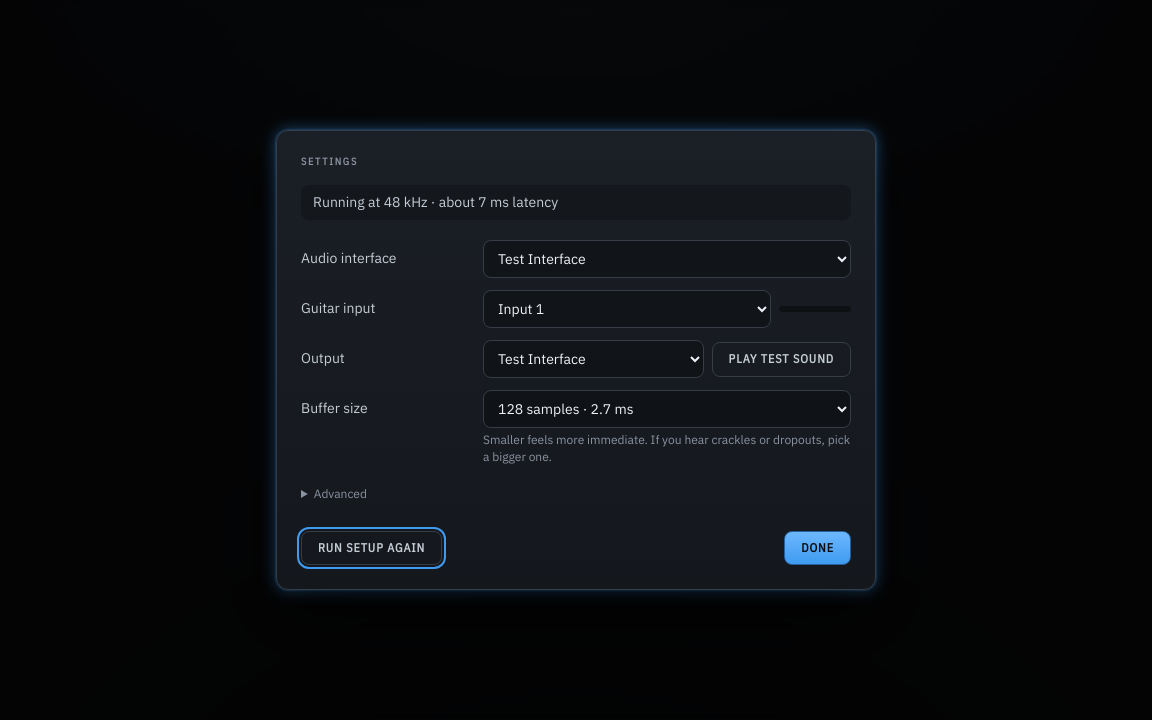
Scenario: Settings: changes go to the engine, one key at a time › updates the status line from what the engine says after a change
Expected: the message "Running at 48 kHz · about 7 ms latency" is shown, [301,185,851,220]
Select "Built-in Microphone" in the dropdown labelled "Audio interface": (667, 259) [483,240,851,278]
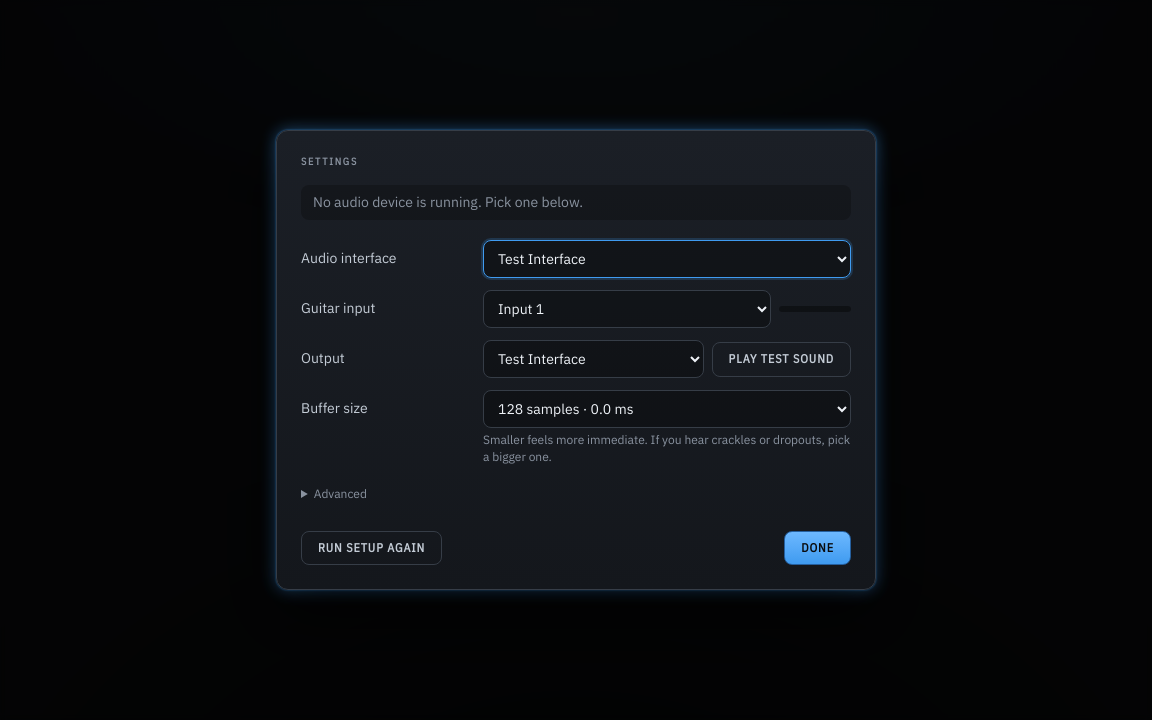
Expected: the message shows "No audio device is running", [313,193,583,211]
